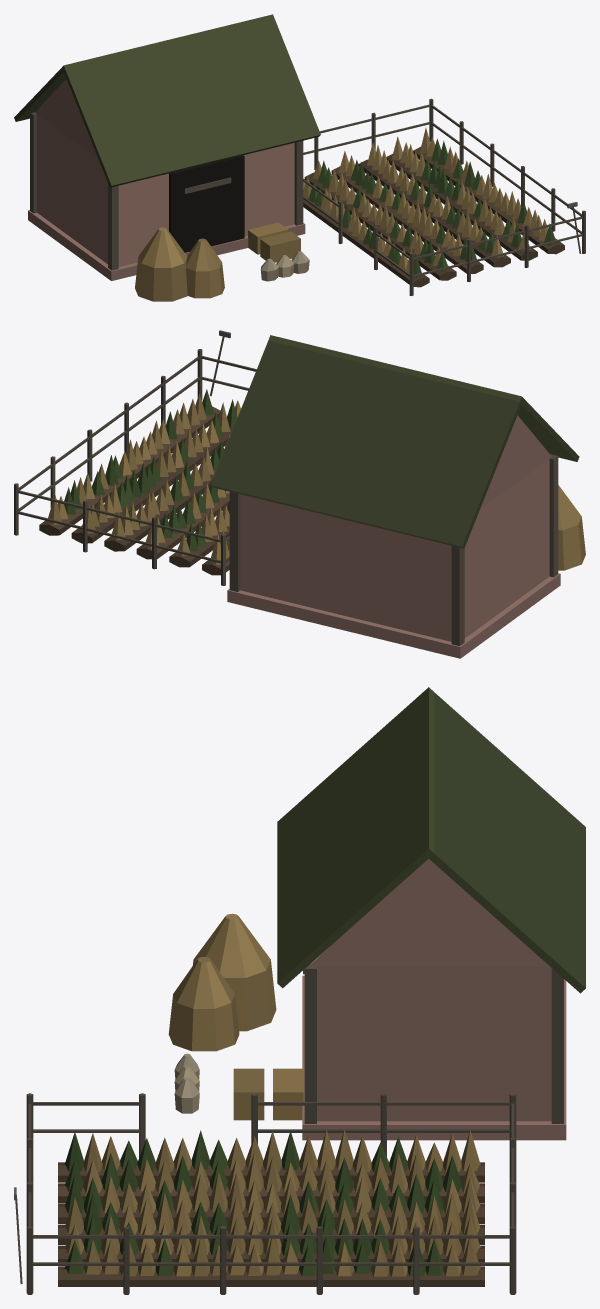
Rendered from walk_reef_farm.glb.
The picture shows the model from 3 angles, top to bottom: view 1: azimuth 30°, elevation 25°; view 2: azimuth 150°, elevation 25°; view 3: azimuth 270°, elevation 25°; orthographic projection. The views are drawn at different scales.
Visible parts, largest first — view 1: walk_reef_farm, walk_reef_farm_roof; view 2: walk_reef_farm, walk_reef_farm_roof; view 3: walk_reef_farm, walk_reef_farm_roof.
Part boxes in pixels (x1,y1,x2,y2): walk_reef_farm: (28, 79, 585, 301); walk_reef_farm_roof: (14, 14, 320, 187); walk_reef_farm: (14, 330, 585, 658); walk_reef_farm_roof: (211, 335, 579, 548); walk_reef_farm: (14, 858, 566, 1294); walk_reef_farm_roof: (277, 687, 585, 993).
Size of what is drawn, in the model's own units: 12.85 by 6.04 by 10.18.
Materials: 2 (2 with a texture image).
